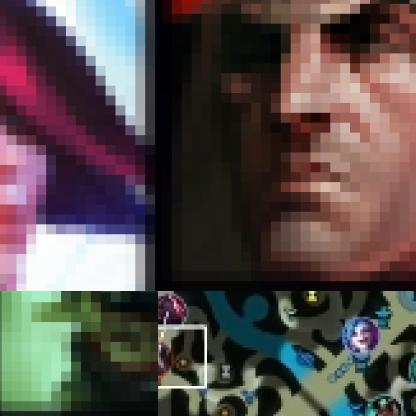Fiora: (0, 0, 157, 290)
Jinx: (340, 314, 380, 356)
Karma: (365, 398, 407, 415)
Kassadin: (158, 341, 175, 378)
Sion: (158, 292, 191, 329)
Swain: (158, 0, 415, 290)
Warwick: (0, 291, 157, 415)
